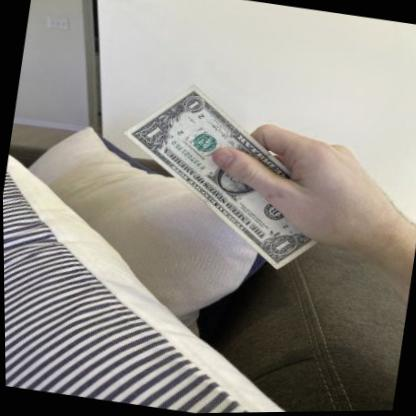one-front: (122, 85, 348, 271)
